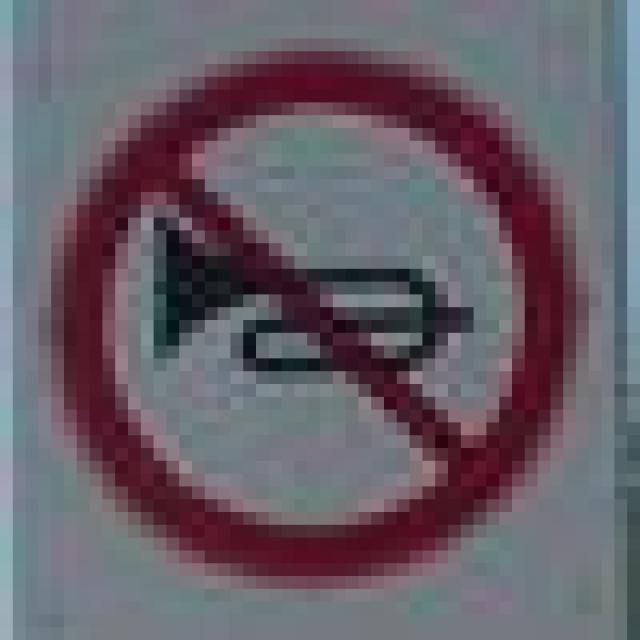HORN_PROHIBITED: (26, 38, 576, 576)
